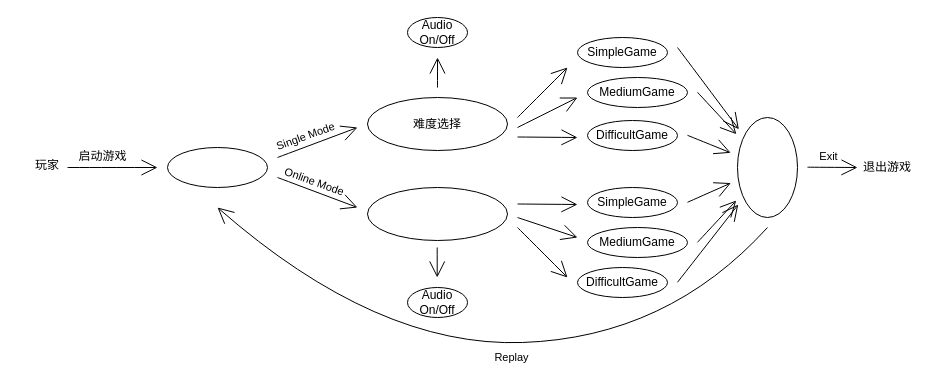
Some shapes in this 934 by 381 pixel diagram are drawn without their labels. Each missing label, with the centre of its shape:
场景/难度选择: [437,213]
排行榜: [767,167]
模式选择: [217,167]
